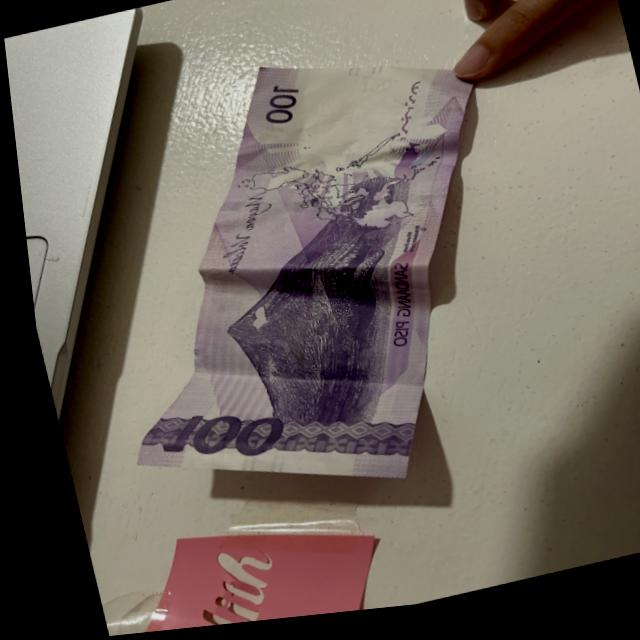100_whale: (298, 230, 394, 352)
100_whale_watermark: (383, 146, 426, 192)
value_watermark: (357, 83, 394, 104)
